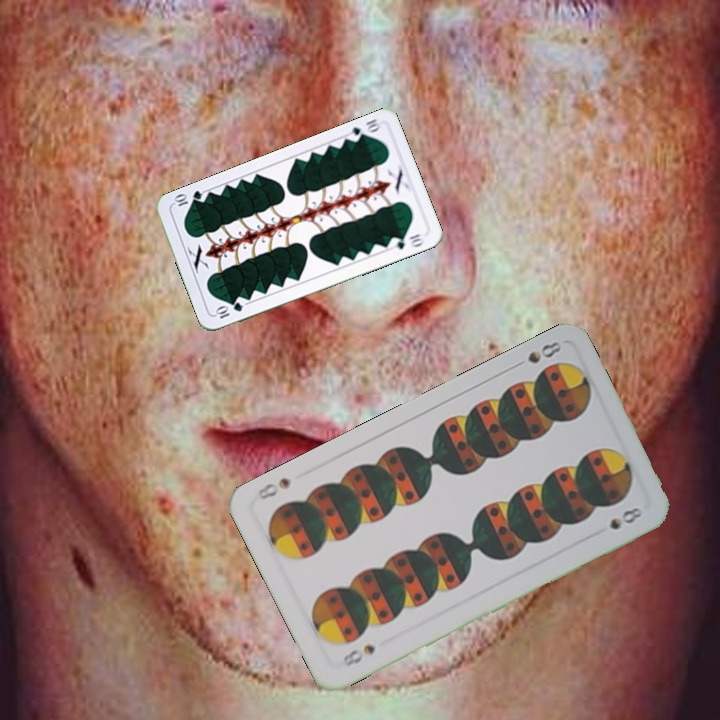G10: (346, 114, 384, 144), (212, 298, 245, 321)
S8: (508, 337, 564, 371), (336, 640, 378, 669)
